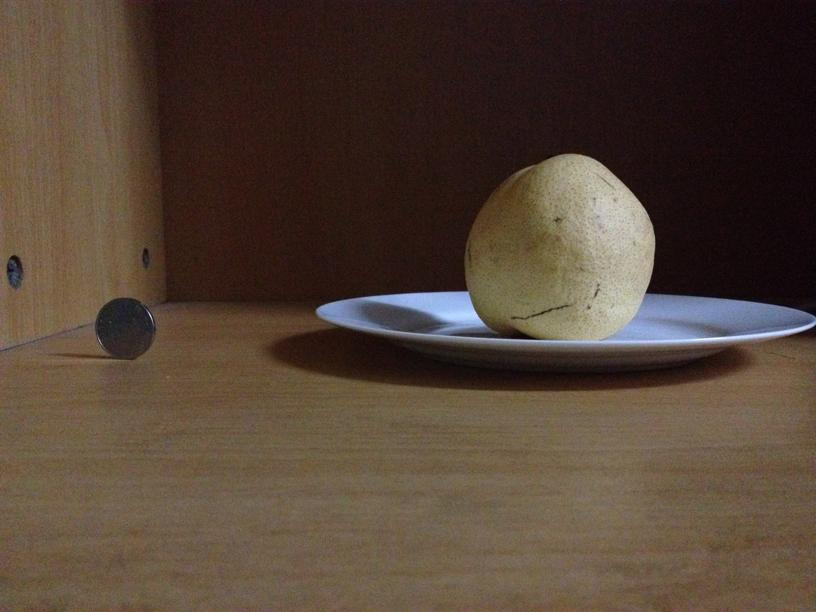coin: (95, 295, 154, 361)
pear: (465, 153, 657, 338)
